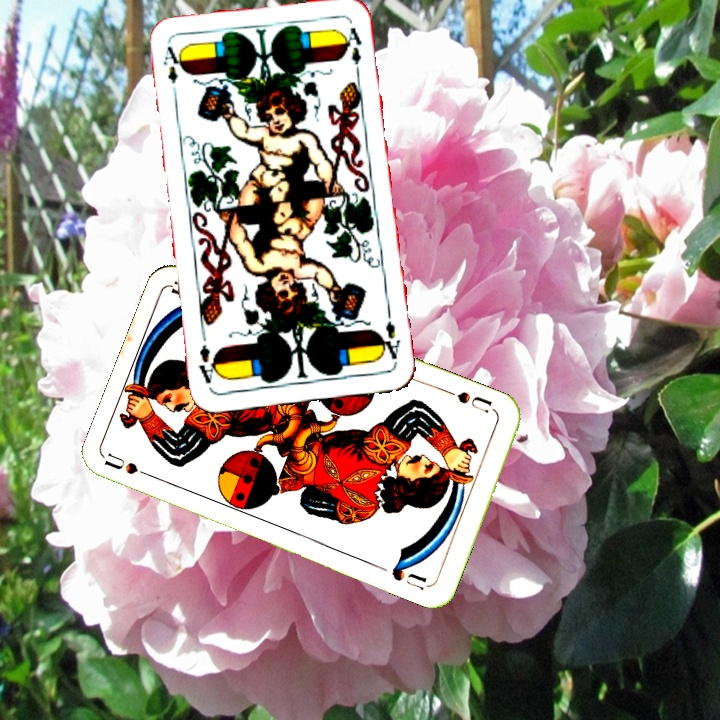EA: (376, 317, 403, 367), (159, 42, 186, 86)
SU: (102, 450, 161, 482), (442, 386, 499, 416)
